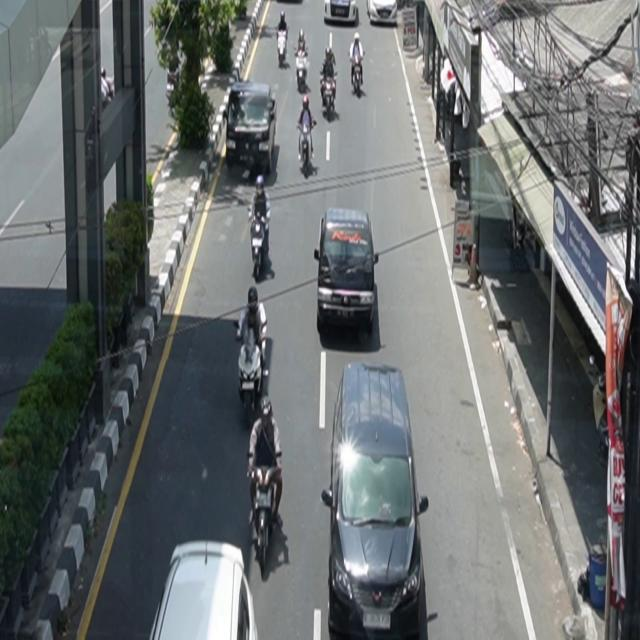car: (322, 362, 430, 640), (150, 541, 259, 640), (315, 208, 379, 335), (225, 82, 278, 175), (325, 1, 359, 26), (368, 1, 399, 26)
